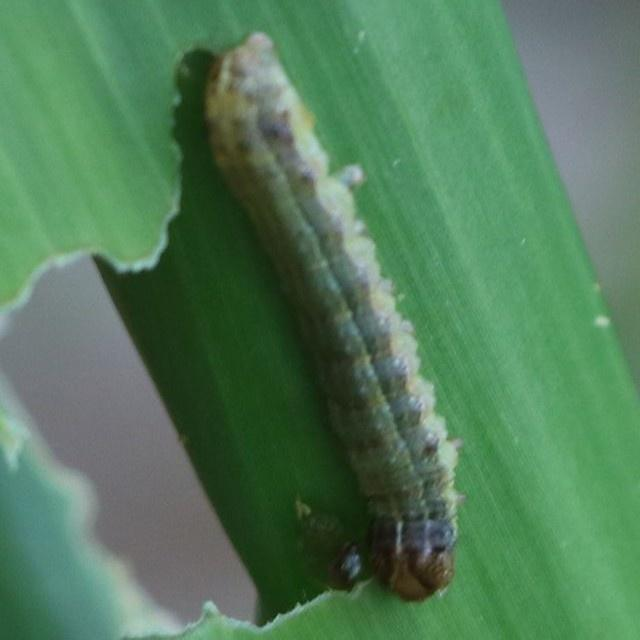gusano_cogollero: (198, 31, 467, 604)
